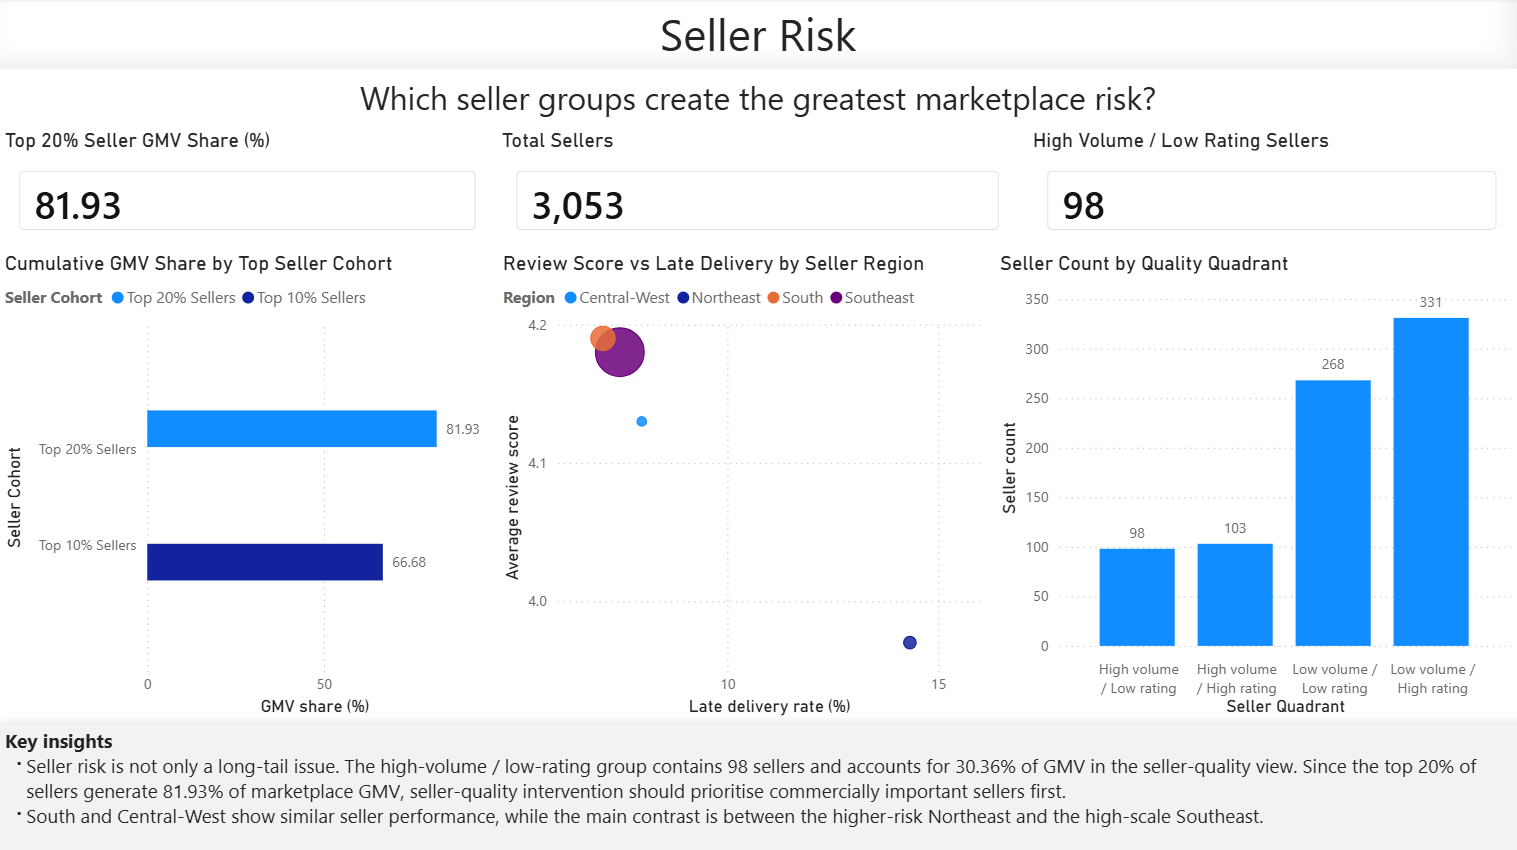

What the dashboard file says about the page in this screenshot:
{"tool":"powerbi","page":{"name":"Seller Risk","canvas":[1280,720],"ordinal":1},"visuals":[{"type":"cardVisual","title":"Top 20% Seller GMV Share (%)","fields":{"Data":["Sum(Seller Concentration.top_20_gmv_share_pct)"]},"box":[0,109.9,419.2,103.1],"z":0},{"type":"textbox","box":[0,0,1280,60.3],"z":1000},{"type":"textbox","box":[0,60.3,1280,49.6],"z":2000},{"type":"cardVisual","title":"Total Sellers","fields":{"Data":["GMV by Segment.Total Sellers Display"]},"box":[419.2,109.9,441.6,103.1],"z":3000},{"type":"cardVisual","title":"High Volume / Low Rating Sellers","fields":{"Data":["Sum(Seller Quadrants.seller_count)"]},"box":[866.6,109.9,413.4,103.1],"z":4000},{"type":"scatterChart","title":"Review Score vs Late Delivery by Seller Region","fields":{"X":["Region Delivery.late_delivery_rate_pct"],"Y":["Region Delivery.avg_review_score"],"Size":["Sum(Regional Seller Performance.seller_gmv)"],"Series":["Regional Seller Performance.region"]},"box":[419.5,213.3,419.5,396.9],"z":5000},{"type":"clusteredColumnChart","title":"Seller Count by Quality Quadrant","fields":{"Y":["Sum(Seller Quadrants.seller_count)"],"Category":["Quadrant Sort.seller_quadrant"]},"box":[839,213.3,441,396.9],"z":6000},{"type":"clusteredBarChart","title":"Cumulative GMV Share by Top Seller Cohort","fields":{"Category":["Seller Cohort Shares.seller_cohort"],"Y":["Sum(Seller Cohort Shares.gmv_share_pct)"],"Series":["Seller Cohort Shares.seller_cohort"]},"box":[0,213.3,419.5,396.9],"z":7000},{"type":"textbox","box":[0,610.3,1280,109.7],"z":8000}]}

Visuals, with their boxes in screenshot pixels (x1, y1, x2, y2), scaled from the page's 1280x720 canvas onto the 1517x850 screenshot:
"Top 20% Seller GMV Share (%)" cardVisual: x1=0 y1=130 x2=497 y2=251
textbox: x1=0 y1=0 x2=1516 y2=71
textbox: x1=0 y1=71 x2=1516 y2=130
"Total Sellers" cardVisual: x1=497 y1=130 x2=1020 y2=251
"High Volume / Low Rating Sellers" cardVisual: x1=1027 y1=130 x2=1516 y2=251
"Review Score vs Late Delivery by Seller Region" scatterChart: x1=497 y1=252 x2=994 y2=720
"Seller Count by Quality Quadrant" clusteredColumnChart: x1=994 y1=252 x2=1516 y2=720
"Cumulative GMV Share by Top Seller Cohort" clusteredBarChart: x1=0 y1=252 x2=497 y2=720
textbox: x1=0 y1=720 x2=1516 y2=849
